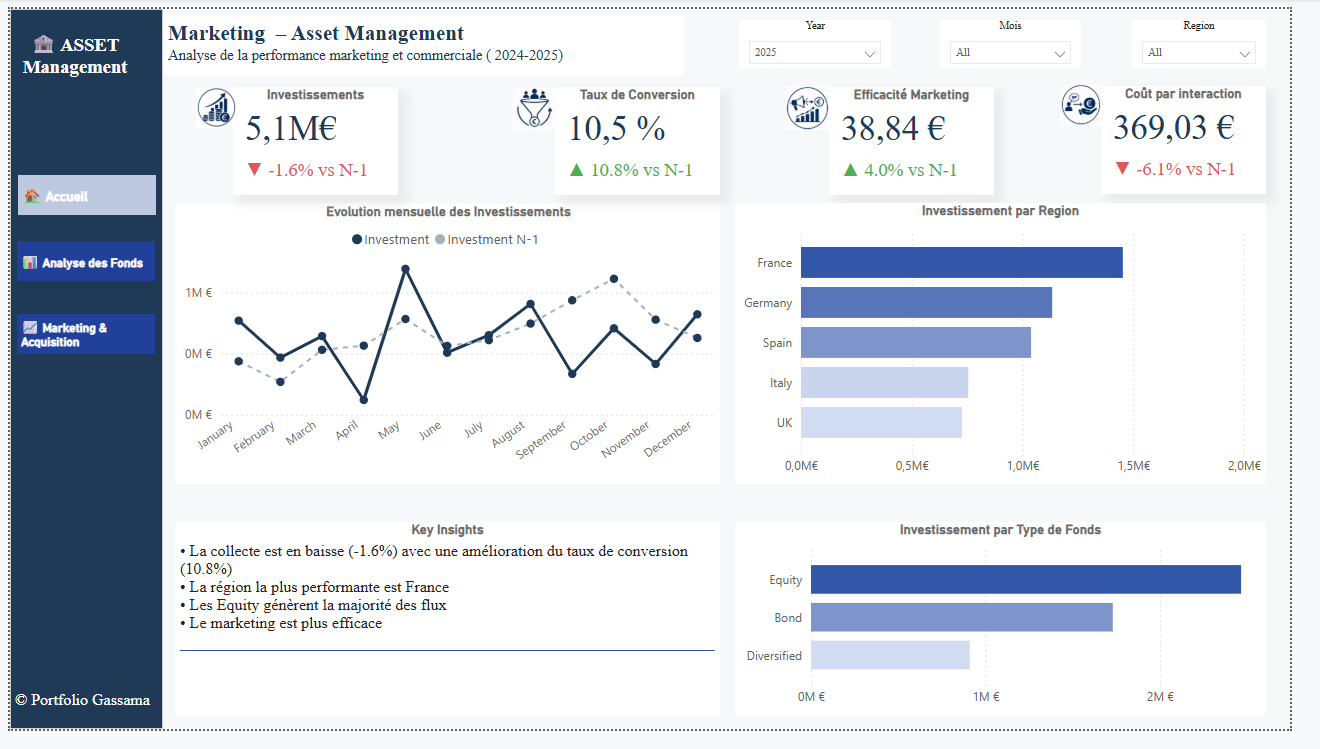

The page's visual inventory and layout, read from the dashboard file:
{"tool":"powerbi","page":{"name":"Accueil","canvas":[1280,720],"ordinal":0},"visuals":[{"type":"shape","box":[0,0,153,720],"z":0},{"type":"areaChart","title":"Evolution mensuelle des Investissements","fields":{"Category":["DimDate.Date.Variation.Date Hierarchy.Month"],"Y":["Mesures_Principaux.Total Investment","Mesures_Previous.Investment Previous Year"]},"box":[165,194,545,281],"z":1000},{"type":"textbox","title":"Key Insights","box":[165,513,545,193],"z":2000},{"type":"cardVisual","title":"Investissements","fields":{"Data":["Mesures_Principaux.Total Investment"]},"box":[223,78,165,108],"z":3000},{"type":"cardVisual","title":"Taux de Conversion","fields":{"Data":["Mesures_Marketing.Conversion Rate"]},"box":[545,78,165,108],"z":4000},{"type":"cardVisual","title":"Efficacité Marketing ","fields":{"Data":["Mesures_Marketing.Marketing Efficiency"]},"box":[819,78,165,108],"z":5000},{"type":"cardVisual","title":"Coût par interaction","fields":{"Data":["Mesures_Marketing.Investment per Interaction"]},"box":[1091,77,165,108],"z":6000},{"type":"clusteredBarChart","title":"Investissement par  Region","fields":{"Category":["Sales.Region"],"Y":["Mesures_Principaux.Total Investment"]},"box":[725,194,531,281],"z":7000},{"type":"barChart","title":"Investissement par  Type de Fonds","fields":{"Category":["Sales.Type"],"Y":["Mesures_Principaux.Total Investment"]},"box":[725,513,531,193],"z":8000},{"type":"image","box":[172,78,69,41],"z":9000},{"type":"image","box":[490,78,69,43],"z":10000},{"type":"image","box":[757,77,80,45],"z":11000},{"type":"image","box":[1036,75,69,42],"z":12000},{"type":"textbox","box":[0,0,130,96],"z":13000},{"type":"textbox","box":[153,7,521,59],"z":14000},{"type":"slicer","title":"Year","fields":{"Values":["DimDate.Date.Variation.Date Hierarchy.Year"]},"box":[729,11,152,49],"z":15000},{"type":"slicer","title":"Mois","fields":{"Values":["DimDate.Date.Variation.Date Hierarchy.Month"]},"box":[930,11,141,49],"z":16000},{"type":"slicer","title":"Region","fields":{"Values":["Sales.Region"]},"box":[1122,11,134,49],"z":17000},{"type":"actionButton","box":[7,232,138,40],"z":18000},{"type":"actionButton","box":[7,305,138,40],"z":19000},{"type":"actionButton","box":[8,166,138,40],"z":20000},{"type":"textbox","box":[0,677,153,29],"z":20001}]}

Visuals, with their boxes on the page's 1280x720 design canvas (x1, y1, x2, y2). These are canvas units, not pixel positions in the 1320x749 screenshot, which may show the page scaled, cropped or inside an application window:
shape: detection(0, 0, 153, 720)
"Evolution mensuelle des Investissements" areaChart: detection(165, 194, 710, 475)
"Key Insights" textbox: detection(165, 513, 710, 706)
"Investissements" cardVisual: detection(223, 78, 388, 186)
"Taux de Conversion" cardVisual: detection(545, 78, 710, 186)
"Efficacité Marketing " cardVisual: detection(819, 78, 984, 186)
"Coût par interaction" cardVisual: detection(1091, 77, 1256, 185)
"Investissement par  Region" clusteredBarChart: detection(725, 194, 1256, 475)
"Investissement par  Type de Fonds" barChart: detection(725, 513, 1256, 706)
image: detection(172, 78, 241, 119)
image: detection(490, 78, 559, 121)
image: detection(757, 77, 837, 122)
image: detection(1036, 75, 1105, 117)
textbox: detection(0, 0, 130, 96)
textbox: detection(153, 7, 674, 66)
"Year" slicer: detection(729, 11, 881, 60)
"Mois" slicer: detection(930, 11, 1071, 60)
"Region" slicer: detection(1122, 11, 1256, 60)
actionButton: detection(7, 232, 145, 272)
actionButton: detection(7, 305, 145, 345)
actionButton: detection(8, 166, 146, 206)
textbox: detection(0, 677, 153, 706)
